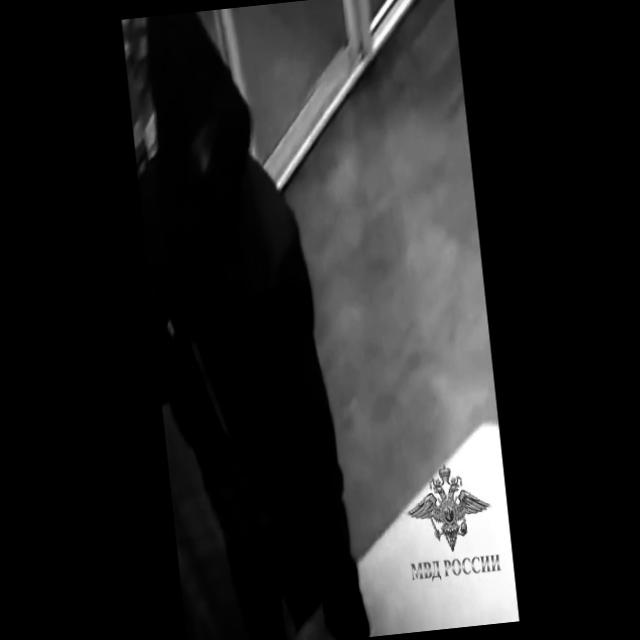gun: (182, 328, 236, 468)
person with a gun: (121, 2, 366, 640)
